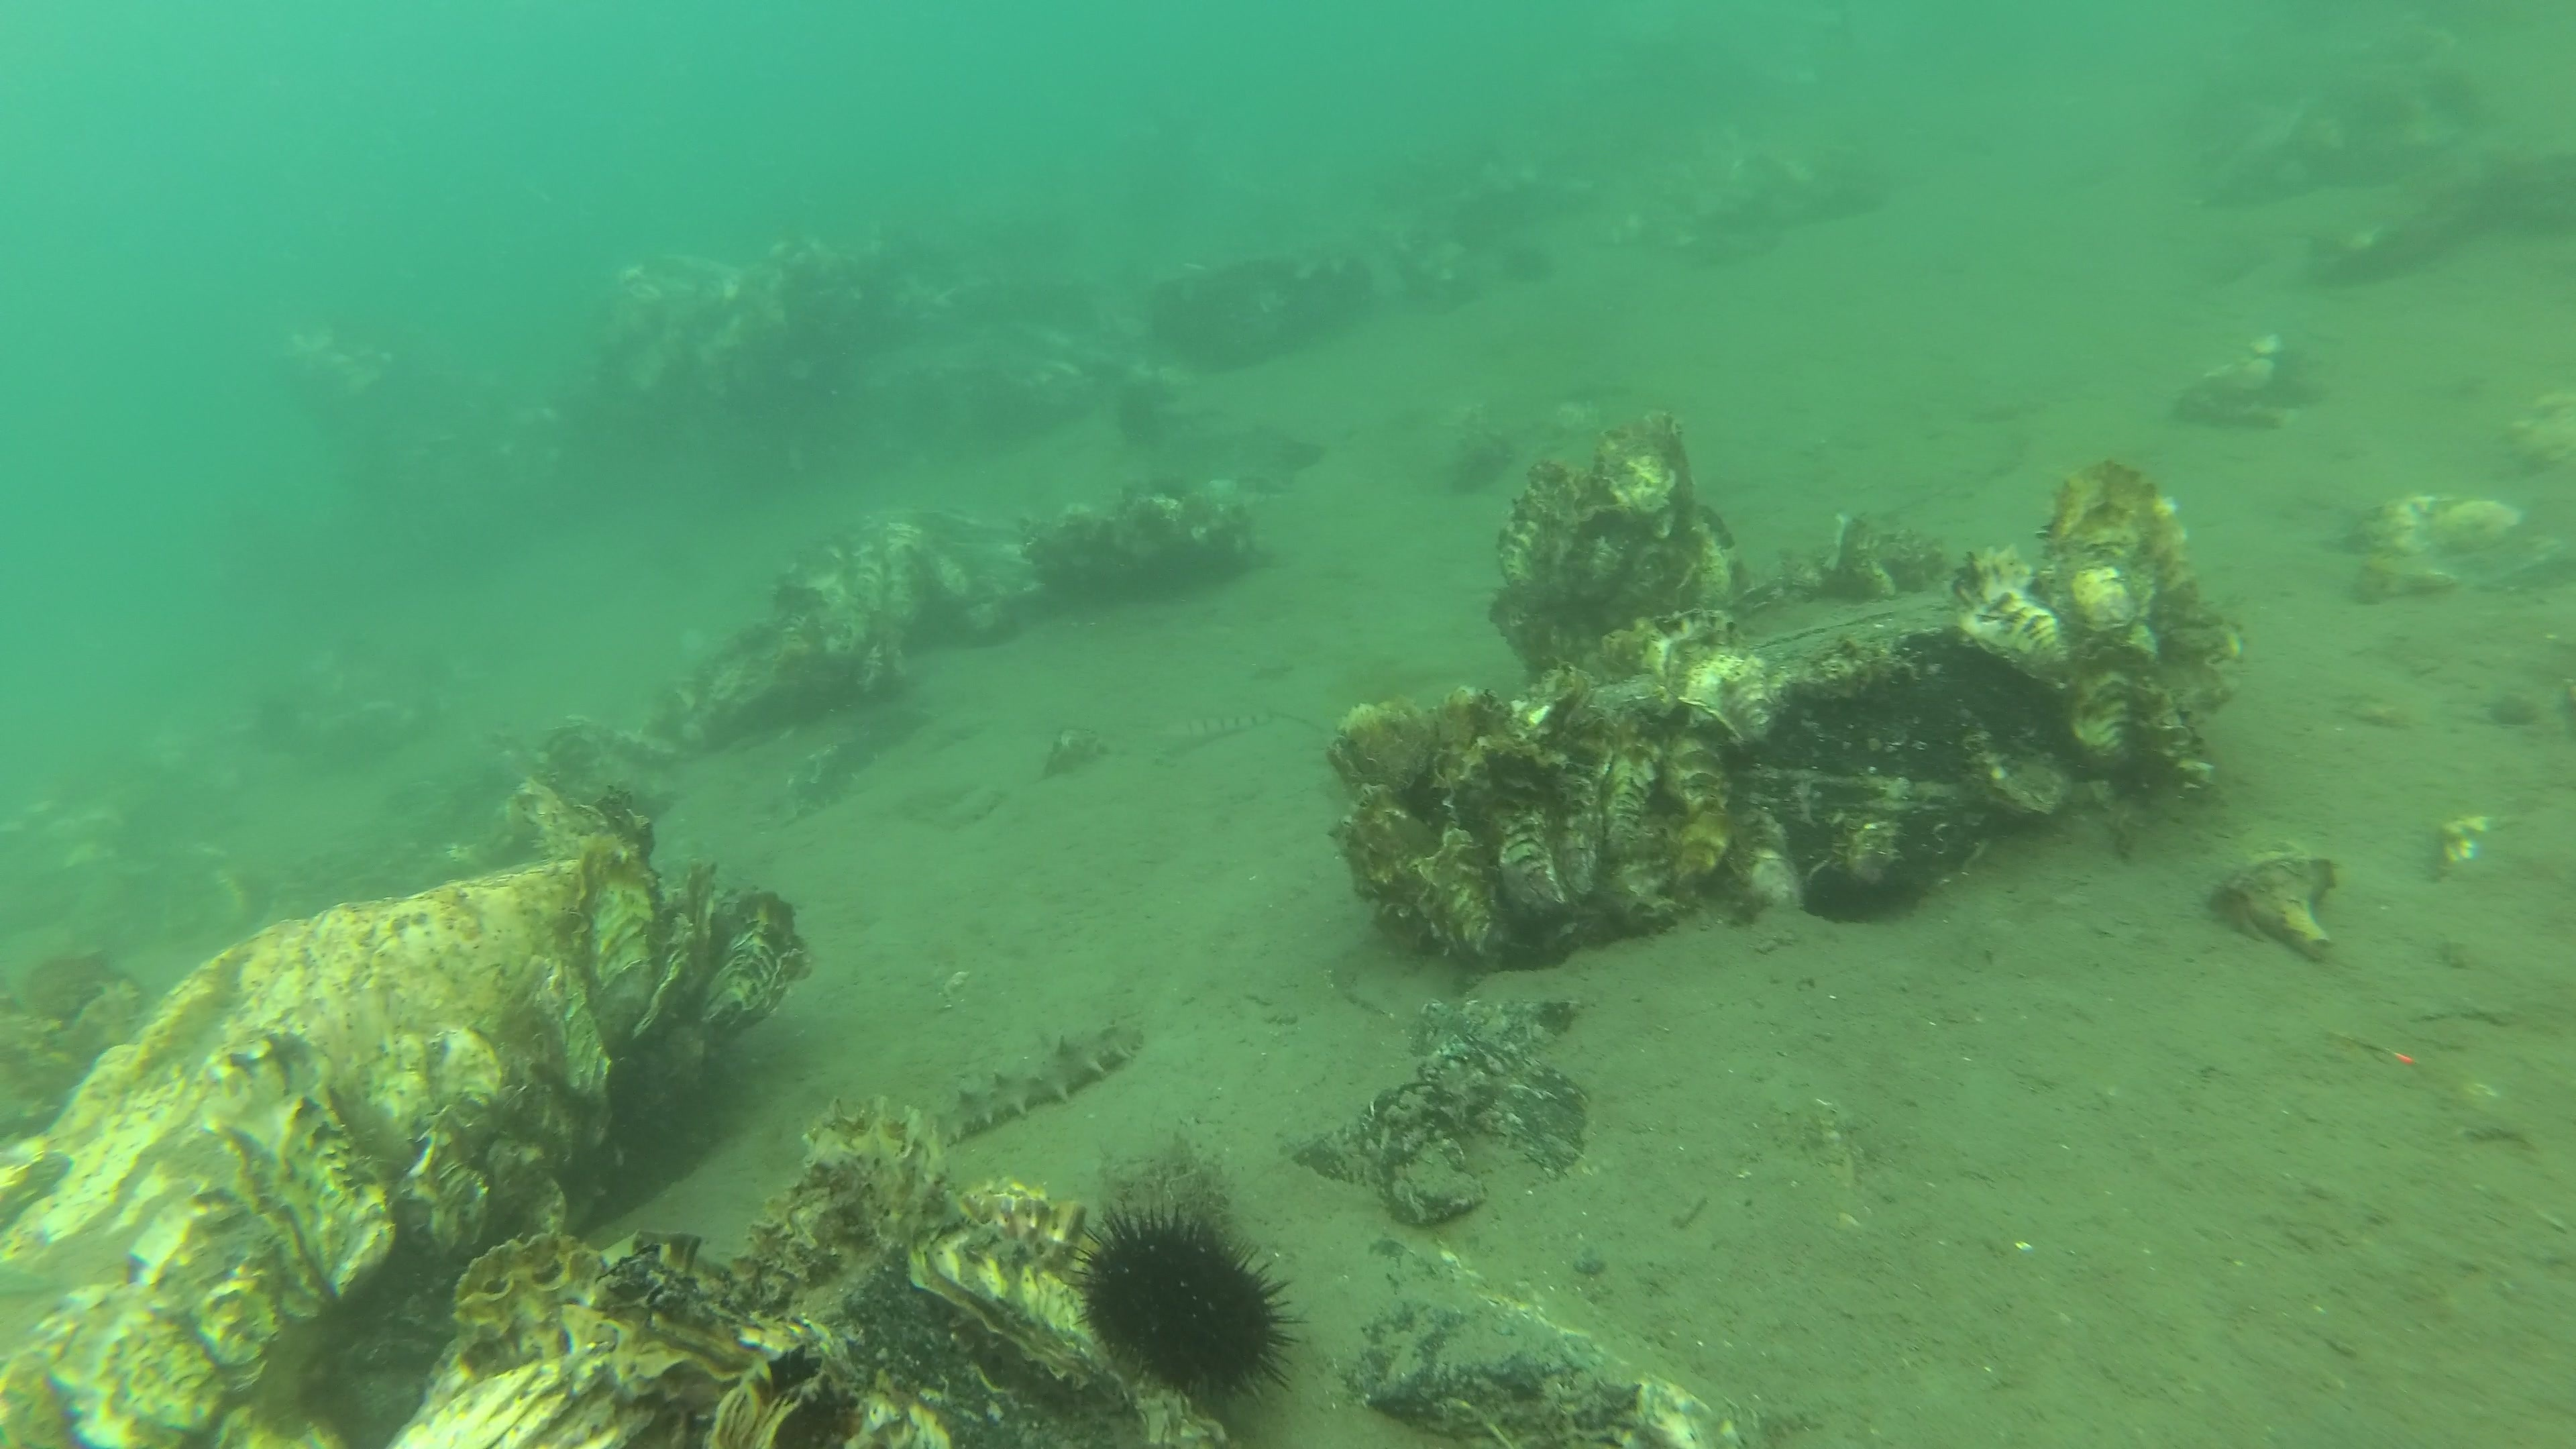echinus: (1063, 1191, 1311, 1408), (1111, 372, 1187, 451), (1500, 244, 1557, 283)
holothurian: (932, 1014, 1146, 1150)
